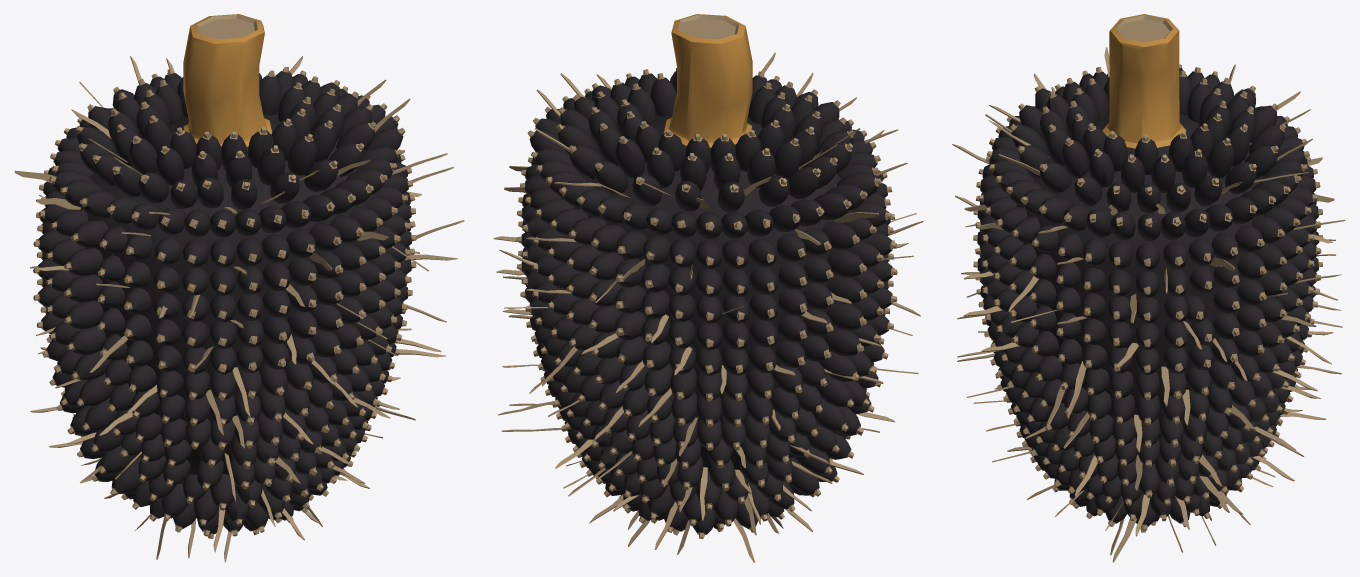
File: Buah_Sawit_Mentah.gltf
The picture shows the model from 3 angles, left to right: view 1: azimuth 30°, elevation 25°; view 2: azimuth 150°, elevation 25°; view 3: azimuth 270°, elevation 25°; orthographic projection. The views are drawn at different scales.
Visible parts, largest first — view 1: Cube; view 2: Cube; view 3: Cube.
Boxes of the visible parts, bbox=[...] form: Cube: bbox=[14, 14, 464, 562]; Cube: bbox=[493, 14, 923, 562]; Cube: bbox=[952, 14, 1345, 562].
Size of the model in its own units: 0.5001 by 0.6157 by 0.4423.
